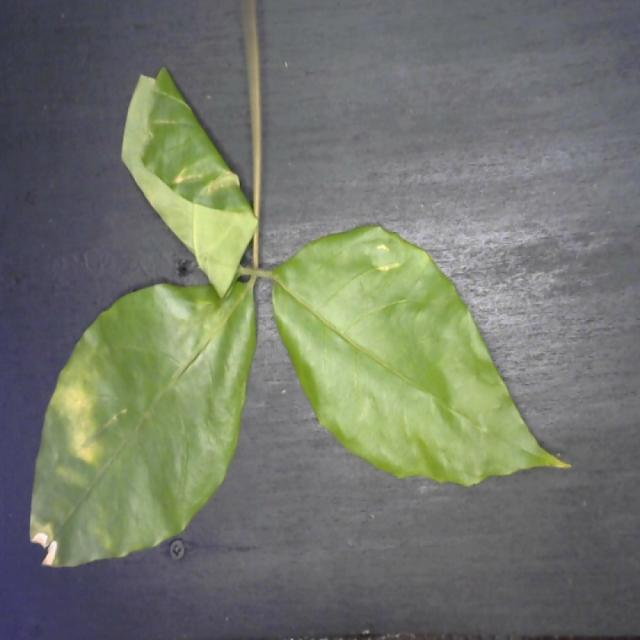biodegradable: (30, 0, 573, 575)
